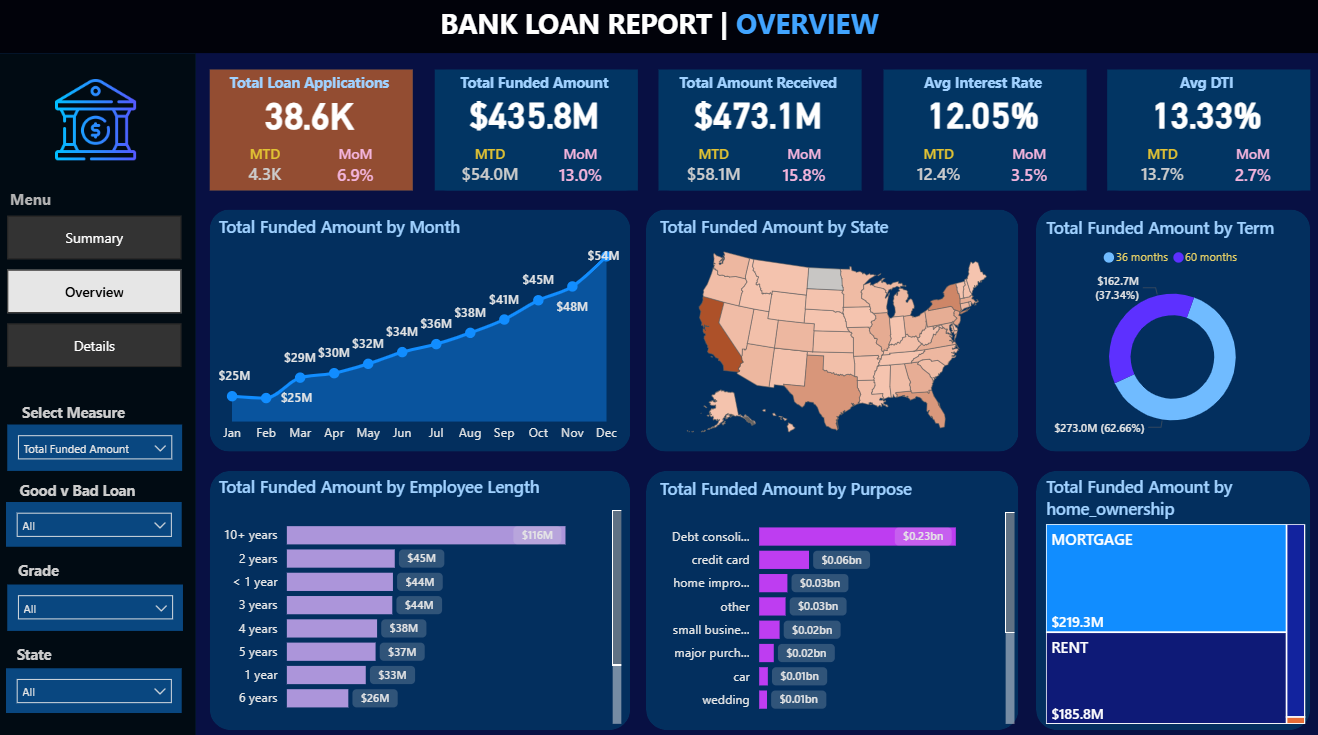

This screenshot's page, from the dashboard's own definition file:
{"tool":"powerbi","page":{"name":"Overview","canvas":[1280,720],"ordinal":1},"visuals":[{"type":"shape","box":[0,0,1280.5,54.6],"z":0},{"type":"group","id":"g1","title":"Group 1","box":[203.1,69.4,199.4,120.6],"z":0,"group":"g6"},{"type":"group","id":"g2","title":"Group 1","box":[419.5,69.4,199.4,120.6],"z":0,"group":"g7"},{"type":"group","id":"g3","title":"Group 1","box":[636,69.4,199.4,120.6],"z":0,"group":"g8"},{"type":"group","id":"g4","title":"Group 1","box":[852.6,69.4,199.4,120.6],"z":0,"group":"g9"},{"type":"group","id":"g5","title":"Group 1","box":[1069.1,69.4,199.4,120.6],"z":0,"group":"g10"},{"type":"textbox","box":[203.6,67.3,199.3,30.8],"z":1000,"group":"g6"},{"type":"textbox","box":[420,67.3,199.3,30.8],"z":1000,"group":"g7"},{"type":"textbox","box":[636.5,67.3,199.3,30.8],"z":1000,"group":"g8"},{"type":"textbox","box":[853.1,67.3,199.3,30.8],"z":1000,"group":"g9"},{"type":"textbox","box":[1069.6,67.3,199.3,30.8],"z":1000,"group":"g10"},{"type":"shape","box":[206.5,205.3,405.9,233.8],"z":1000},{"type":"textbox","box":[8.3,386.4,132.6,29],"z":1000,"group":"g19"},{"type":"textbox","box":[8.1,461.6,140,35.6],"z":1000,"group":"g16"},{"type":"textbox","box":[9.9,539.5,62.5,32.4],"z":1000,"group":"g17"},{"type":"textbox","box":[1.8,620.6,71.2,29.7],"z":1000,"group":"g18"},{"type":"shape","box":[627.8,205.3,359.6,233.8],"z":2000},{"type":"shape","box":[0,54.6,192.9,665.8],"z":3000},{"type":"shape","box":[206.5,69.4,195.9,117.2],"z":3000,"group":"g1"},{"type":"shape","box":[422.9,69.4,195.9,117.2],"z":3000,"group":"g2"},{"type":"shape","box":[639.4,69.4,195.9,117.2],"z":3000,"group":"g3"},{"type":"shape","box":[856,69.4,195.9,117.2],"z":3000,"group":"g4"},{"type":"shape","box":[1072.5,69.4,195.9,117.2],"z":3000,"group":"g5"},{"type":"shape","box":[0,54.6,192.9,665.8],"z":4000},{"type":"textbox","box":[403,2.1,474.5,45.6],"z":5000},{"type":"group","id":"g6","title":"Group 2","box":[203.1,67.3,199.8,122.6],"z":7000,"group":"g11"},{"type":"group","id":"g7","title":"Group 2","box":[419.5,67.3,199.8,122.6],"z":7000,"group":"g12"},{"type":"group","id":"g8","title":"Group 2","box":[636,67.3,199.8,122.6],"z":7000,"group":"g13"},{"type":"group","id":"g9","title":"Group 2","box":[852.6,67.3,199.8,122.6],"z":7000,"group":"g14"},{"type":"group","id":"g10","title":"Group 2","box":[1069.1,67.3,199.8,122.6],"z":7000,"group":"g15"},{"type":"group","id":"g11","title":"Group 3","box":[203.1,67.3,199.8,123.3],"z":8000},{"type":"card","fields":{"Values":["financial_loan.Total Loan Applications"]},"box":[203.1,88.3,199.3,45.5],"z":8000,"group":"g1"},{"type":"card","fields":{"Values":["financial_loan.Total Loan Amount"]},"box":[419.5,88.3,199.3,45.5],"z":8000,"group":"g2"},{"type":"card","fields":{"Values":["financial_loan.Total Amount Collection"]},"box":[636,88.3,199.3,45.5],"z":8000,"group":"g3"},{"type":"card","fields":{"Values":["financial_loan.Avg Interest Rate"]},"box":[852.6,88.3,199.3,45.5],"z":8000,"group":"g4"},{"type":"card","fields":{"Values":["financial_loan.Avg DTI"]},"box":[1069.1,88.3,199.3,45.5],"z":8000,"group":"g5"},{"type":"card","title":"MoM","fields":{"Values":["financial_loan.YOY Loan Applications"]},"box":[303.6,141.9,88.1,48.7],"z":8000,"group":"g11"},{"type":"card","title":"MoM","fields":{"Values":["financial_loan.YOY Loan Amount"]},"box":[520,141.9,88.1,48.7],"z":8000,"group":"g12"},{"type":"card","title":"MoM","fields":{"Values":["financial_loan.YOY Loan Collection"]},"box":[736.5,141.9,88.1,48.7],"z":8000,"group":"g13"},{"type":"card","title":"MoM","fields":{"Values":["financial_loan.YOY Int Rate"]},"box":[953.1,141.9,88.1,48.7],"z":8000,"group":"g14"},{"type":"card","title":"MoM","fields":{"Values":["financial_loan.YOY DTI"]},"box":[1169.6,141.9,88.1,48.7],"z":8000,"group":"g15"},{"type":"group","id":"g12","title":"Group 3","box":[419.5,67.3,199.9,123.3],"z":9000},{"type":"card","title":"MTD","fields":{"Values":["financial_loan.MTD Applications"]},"box":[209.8,142,99.3,48],"z":9000,"group":"g1"},{"type":"card","title":"MTD","fields":{"Values":["financial_loan.MTD Loan Amount"]},"box":[426.2,142,99.3,48],"z":9000,"group":"g2"},{"type":"card","title":"MTD","fields":{"Values":["financial_loan.MTD Loan Collection"]},"box":[642.7,142,99.3,48],"z":9000,"group":"g3"},{"type":"card","title":"MTD","fields":{"Values":["financial_loan.MTD Avg Int Rate"]},"box":[859.3,142,99.3,48],"z":9000,"group":"g4"},{"type":"card","title":"MTD","fields":{"Values":["financial_loan.MTD Avg DTI"]},"box":[1075.8,142,99.3,48],"z":9000,"group":"g5"},{"type":"group","id":"g13","title":"Group 3","box":[636,67.3,199.9,123.3],"z":10000},{"type":"group","id":"g14","title":"Group 3","box":[852.6,67.3,199.9,123.3],"z":11000},{"type":"group","id":"g15","title":"Group 3","box":[1069.1,67.3,199.9,123.3],"z":12000},{"type":"shape","box":[206.5,456.9,405.9,250.4],"z":13000},{"type":"image","box":[26.8,69.2,138.4,99.3],"z":14000},{"type":"areaChart","fields":{"Y":["financial_loan.Total Funded Amount"],"Category":["Date Table.Month"]},"box":[210.1,210.1,397.6,229],"z":15000},{"type":"shape","box":[1004,205.3,264.6,233.8],"z":16000},{"type":"slicer","fields":{"Values":["Select Measure.Select Measure"]},"box":[11.4,412.3,168.9,44.5],"z":17000},{"type":"shape","box":[627.8,456.9,359.6,250.4],"z":18000},{"type":"shape","box":[1004,456.9,264.6,250.4],"z":19000},{"type":"slicer","fields":{"Values":["financial_loan.Good v Bad Loan"]},"box":[10.1,487,169.7,43],"z":20000},{"type":"slicer","fields":{"Values":["financial_loan.grade"]},"box":[10.4,566.7,169.9,44.5],"z":21000},{"type":"slicer","fields":{"Values":["financial_loan.address_state"]},"box":[10,647.3,169.9,43.5],"z":22000},{"type":"group","id":"g16","title":"Group 2","box":[8.1,461.6,140,35.6],"z":23000},{"type":"group","id":"g17","title":"Group 2","box":[9.9,539.5,62.5,32.4],"z":24000},{"type":"group","id":"g18","title":"Group 2","box":[1.8,620.6,71.2,29.7],"z":25000},{"type":"pageNavigator","box":[11.4,211.4,168.6,147.3],"z":26000},{"type":"group","id":"g19","title":"Group 2","box":[8.3,386.4,132.6,29],"z":27000},{"type":"textbox","box":[8.3,180.3,157.5,34.2],"z":28000},{"type":"shapeMap","fields":{"Value":["financial_loan.Total Funded Amount"],"Category":["financial_loan.State"]},"box":[636.2,209.7,351.9,224.9],"z":29000},{"type":"donutChart","fields":{"Y":["financial_loan.Total Funded Amount"],"Category":["financial_loan.term"]},"box":[1009,210.9,254,223.7],"z":30000},{"type":"barChart","fields":{"Y":["financial_loan.Total Funded Amount"],"Category":["financial_loan.emp_length"]},"box":[209.7,461.4,398.5,245.8],"z":31000},{"type":"barChart","fields":{"Y":["financial_loan.Total Funded Amount"],"Category":["financial_loan.purpose"]},"box":[636.2,463.7,351.9,243.5],"z":32000},{"type":"treemap","fields":{"Values":["financial_loan.Total Funded Amount"],"Group":["financial_loan.home_ownership"]},"box":[1009,461.4,259.8,245.8],"z":33000}]}

Visuals, with their boxes in screenshot pixels (x1, y1, x2, y2), scaled from the page's 1280x720 canvas onto the 1318x735 screenshot:
shape: (0,0,1317,56)
"Group 1" group: (209,71,414,194)
"Group 1" group: (432,71,637,194)
"Group 1" group: (655,71,860,194)
"Group 1" group: (878,71,1083,194)
"Group 1" group: (1101,71,1306,194)
textbox: (210,69,415,100)
textbox: (432,69,638,100)
textbox: (655,69,861,100)
textbox: (878,69,1084,100)
textbox: (1101,69,1307,100)
shape: (213,210,631,448)
textbox: (9,394,145,424)
textbox: (8,471,152,508)
textbox: (10,551,75,584)
textbox: (2,634,75,664)
shape: (646,210,1017,448)
shape: (0,56,199,734)
shape: (213,71,414,190)
shape: (435,71,637,190)
shape: (658,71,860,190)
shape: (881,71,1083,190)
shape: (1104,71,1306,190)
shape: (0,56,199,734)
textbox: (415,2,904,49)
"Group 2" group: (209,69,415,194)
"Group 2" group: (432,69,638,194)
"Group 2" group: (655,69,861,194)
"Group 2" group: (878,69,1084,194)
"Group 2" group: (1101,69,1307,194)
"Group 3" group: (209,69,415,195)
card - financial_loan.Total Loan Applications: (209,90,414,137)
card - financial_loan.Total Loan Amount: (432,90,637,137)
card - financial_loan.Total Amount Collection: (655,90,860,137)
card - financial_loan.Avg Interest Rate: (878,90,1083,137)
card - financial_loan.Avg DTI: (1101,90,1306,137)
"MoM" card: (313,145,403,195)
"MoM" card: (535,145,626,195)
"MoM" card: (758,145,849,195)
"MoM" card: (981,145,1072,195)
"MoM" card: (1204,145,1295,195)
"Group 3" group: (432,69,638,195)
"MTD" card: (216,145,318,194)
"MTD" card: (439,145,541,194)
"MTD" card: (662,145,764,194)
"MTD" card: (885,145,987,194)
"MTD" card: (1108,145,1210,194)
"Group 3" group: (655,69,861,195)
"Group 3" group: (878,69,1084,195)
"Group 3" group: (1101,69,1307,195)
shape: (213,466,631,722)
image: (28,71,170,172)
areaChart - financial_loan.Total Funded Amount x Date Table.Month: (216,214,626,448)
shape: (1034,210,1306,448)
slicer - Select Measure.Select Measure: (12,421,186,466)
shape: (646,466,1017,722)
shape: (1034,466,1306,722)
slicer - financial_loan.Good v Bad Loan: (10,497,185,541)
slicer - financial_loan.grade: (11,579,186,624)
slicer - financial_loan.address_state: (10,661,185,705)
"Group 2" group: (8,471,152,508)
"Group 2" group: (10,551,75,584)
"Group 2" group: (2,634,75,664)
pageNavigator: (12,216,185,366)
"Group 2" group: (9,394,145,424)
textbox: (9,184,171,219)
shapeMap - financial_loan.Total Funded Amount x financial_loan.State: (655,214,1017,444)
donutChart - financial_loan.Total Funded Amount x financial_loan.term: (1039,215,1300,444)
barChart - financial_loan.Total Funded Amount x financial_loan.emp_length: (216,471,626,722)
barChart - financial_loan.Total Funded Amount x financial_loan.purpose: (655,473,1017,722)
treemap - financial_loan.Total Funded Amount x financial_loan.home_ownership: (1039,471,1306,722)
